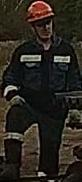gloves: (9, 89, 27, 111), (67, 106, 82, 131)
helmet: (25, 0, 55, 23)
vest: (2, 36, 81, 118)
